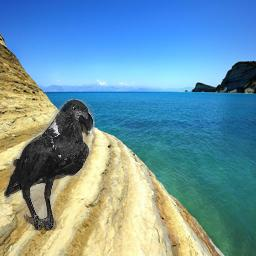Crow: (4, 99, 95, 231)
